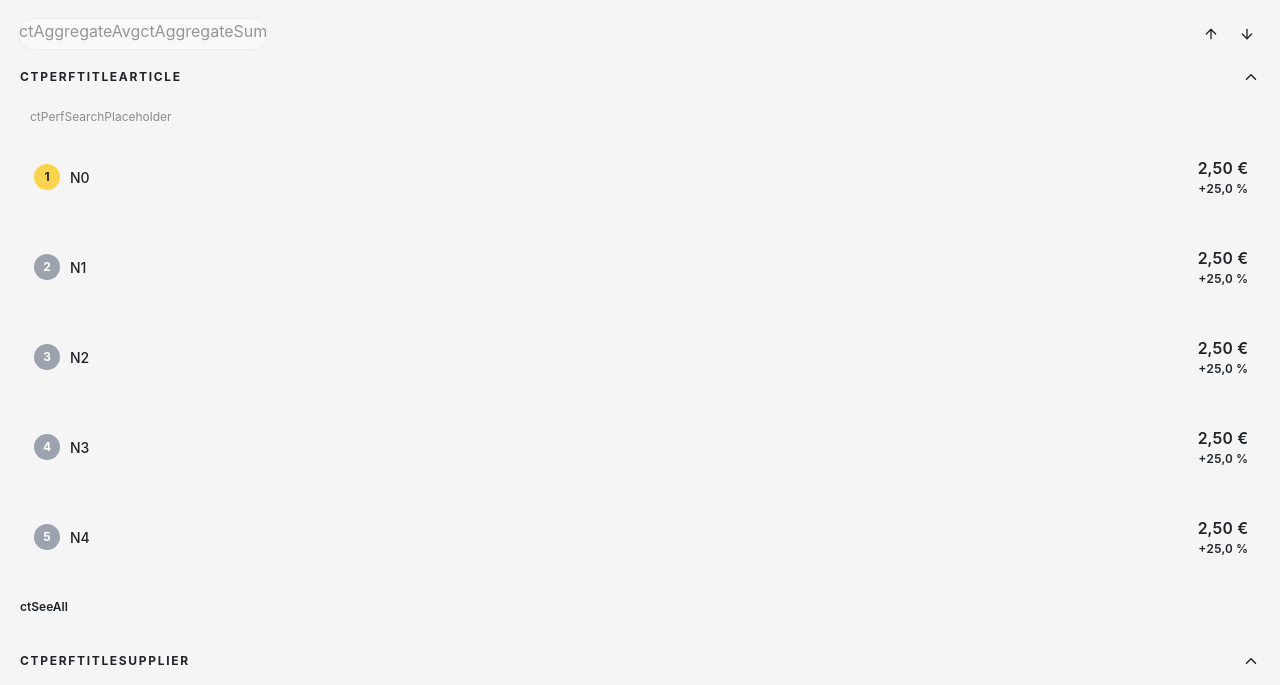
Test: CostTrackingSummaryPanel › affiche 5 lignes puis tout avec Voir tout
The width and height of the screenshot is (1280, 685).
Check: the number of elements with class "ct-rank" is 5, box [34,158,1248,196]; [34,248,1248,286]; [34,338,1248,376]; [34,428,1248,466]; [34,518,1248,556]
Click the button with class "ct-perf__more".
click(44, 607)  # box [18,594,70,620]
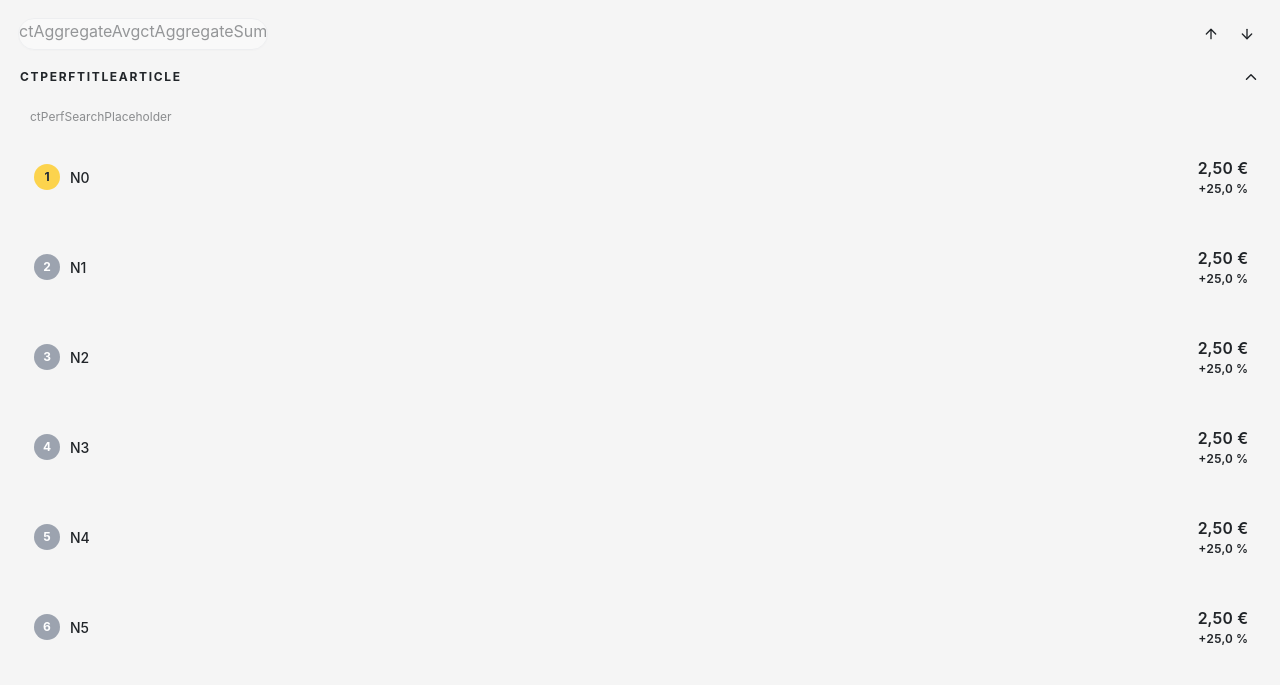
Check: the number of elements with class "ct-rank" is 7
